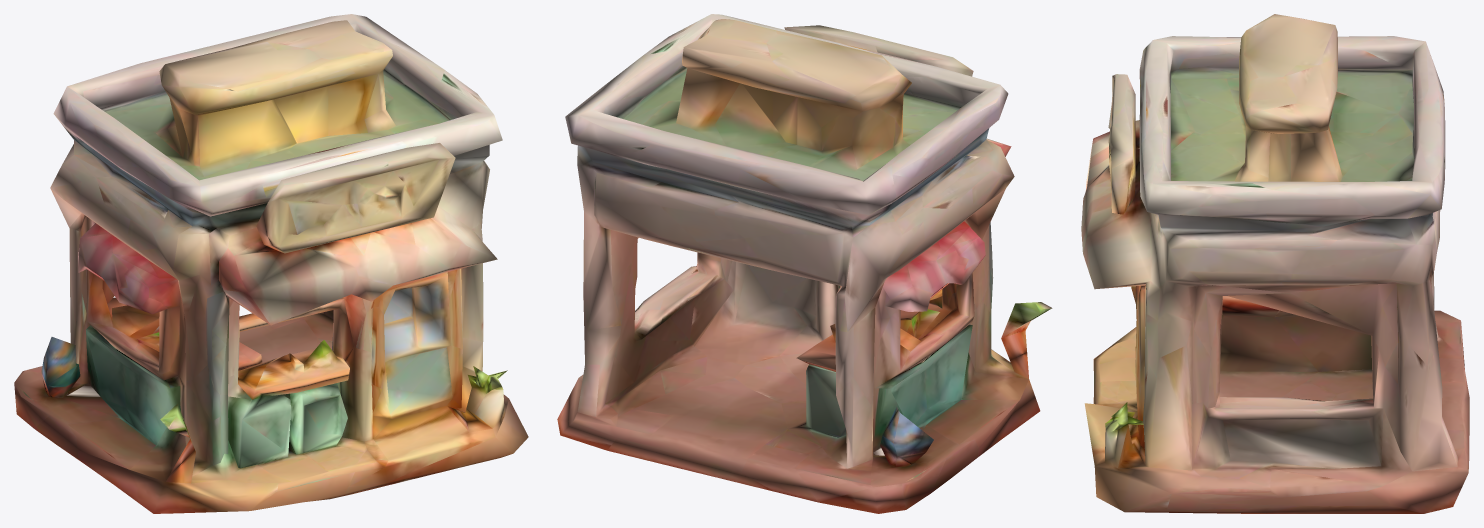
Rendered from bakery_2.glb.
3 renders of one model, left to right at view 1: azimuth 30°, elevation 25°; view 2: azimuth 150°, elevation 25°; view 3: azimuth 270°, elevation 25°, orthographic. The views are drawn at different scales.
Parts seen in each view (by area): view 1: tripo_node_f6b10b5a-c5d7-4870-b352-356faeffab3c; view 2: tripo_node_f6b10b5a-c5d7-4870-b352-356faeffab3c; view 3: tripo_node_f6b10b5a-c5d7-4870-b352-356faeffab3c.
Part boxes in pixels (x1,y1,x2,y2): tripo_node_f6b10b5a-c5d7-4870-b352-356faeffab3c: [14, 14, 528, 513]; tripo_node_f6b10b5a-c5d7-4870-b352-356faeffab3c: [557, 14, 1052, 513]; tripo_node_f6b10b5a-c5d7-4870-b352-356faeffab3c: [1081, 14, 1469, 513].
Size of the model in its own units: 0.9728 by 0.9262 by 0.8826.
Materials: 1 (1 with a texture image).
